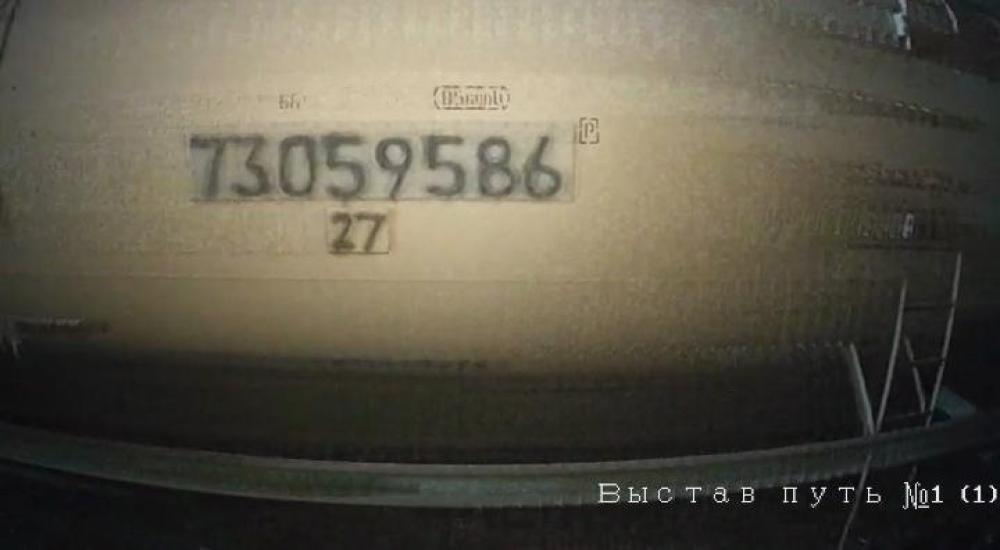Wagon-number: (191, 128, 567, 201)
